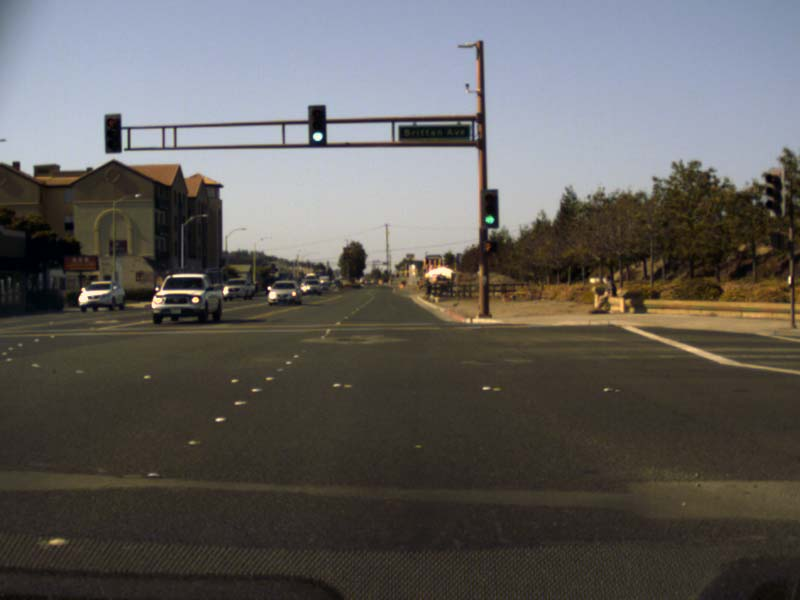Green: (307, 104, 325, 145), (481, 189, 497, 226)
Red: (103, 114, 120, 152)
